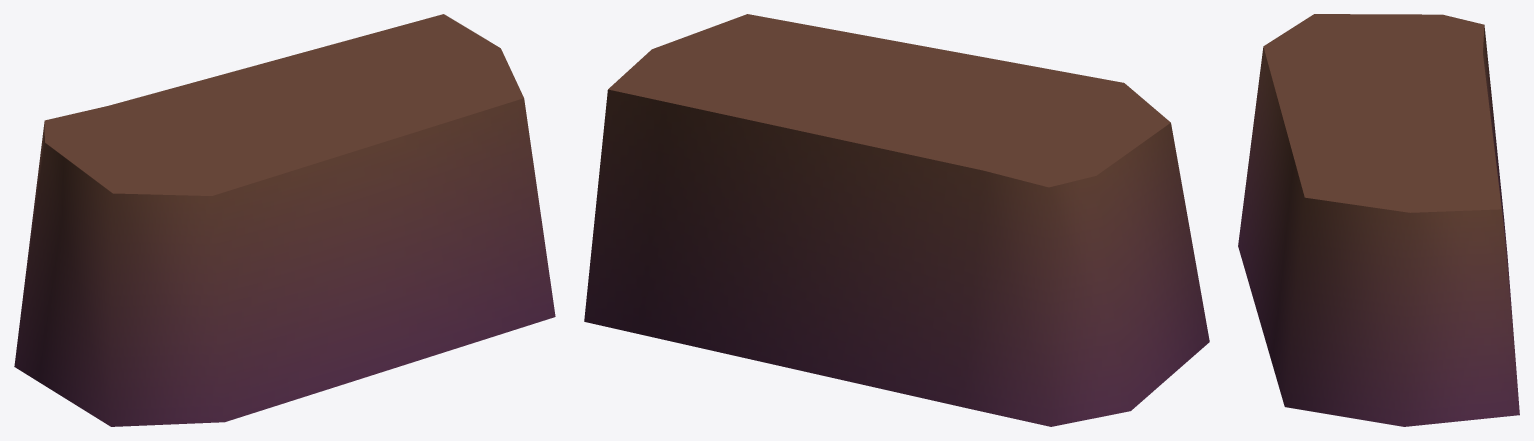
3 renders of one model, left to right at view 1: azimuth 30°, elevation 25°; view 2: azimuth 150°, elevation 25°; view 3: azimuth 270°, elevation 25°, orthographic. The views are drawn at different scales.
Visible parts, largest first — view 1: Cube.082; view 2: Cube.082; view 3: Cube.082.
Part boxes in pixels (x1,y1,x2,y2): Cube.082: [14, 14, 555, 426]; Cube.082: [584, 14, 1209, 426]; Cube.082: [1238, 14, 1519, 426].
Size of the model in its own units: 11.38 by 4.69 by 5.98.
